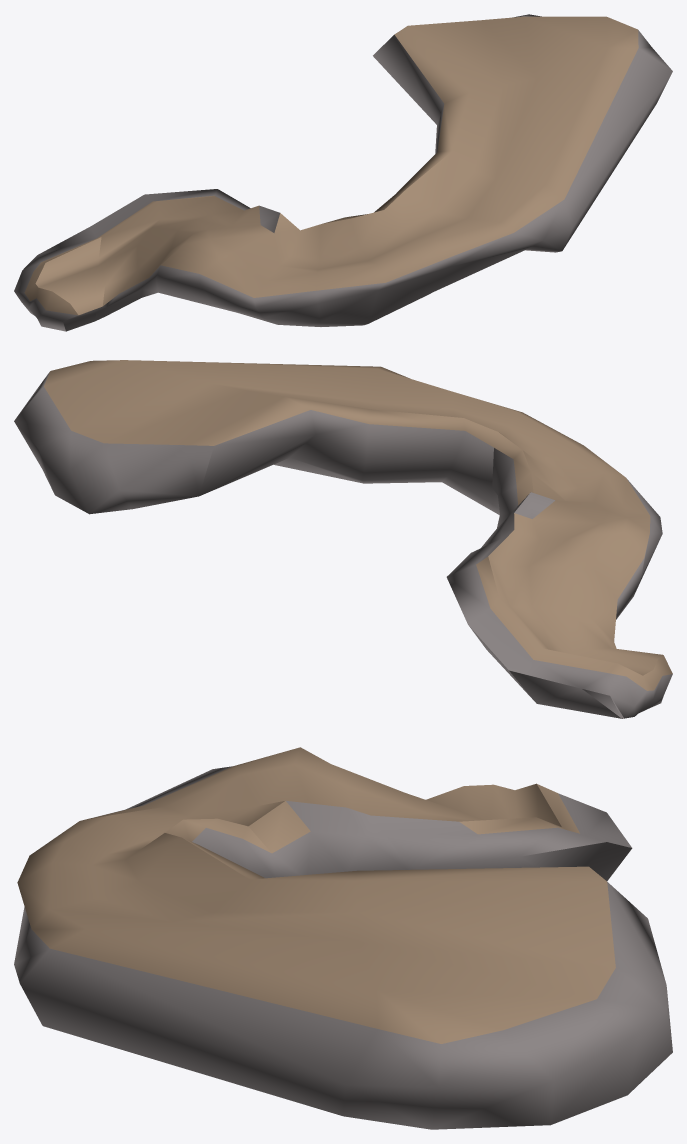
Rendered from Schwebeplattform_3.fbx.
The picture shows the model from 3 angles, top to bottom: view 1: azimuth 30°, elevation 25°; view 2: azimuth 150°, elevation 25°; view 3: azimuth 270°, elevation 25°; orthographic projection. The views are drawn at different scales.
Parts seen in each view (by area): view 1: Schwebeplattform_3; view 2: Schwebeplattform_3; view 3: Schwebeplattform_3.
Boxes of the visible parts, x1,y1,x2,y2 form: Schwebeplattform_3: (14, 14, 672, 331); Schwebeplattform_3: (14, 360, 672, 718); Schwebeplattform_3: (14, 747, 672, 1129).
Size of the model in its own units: 4744 by 1349 by 2731.
